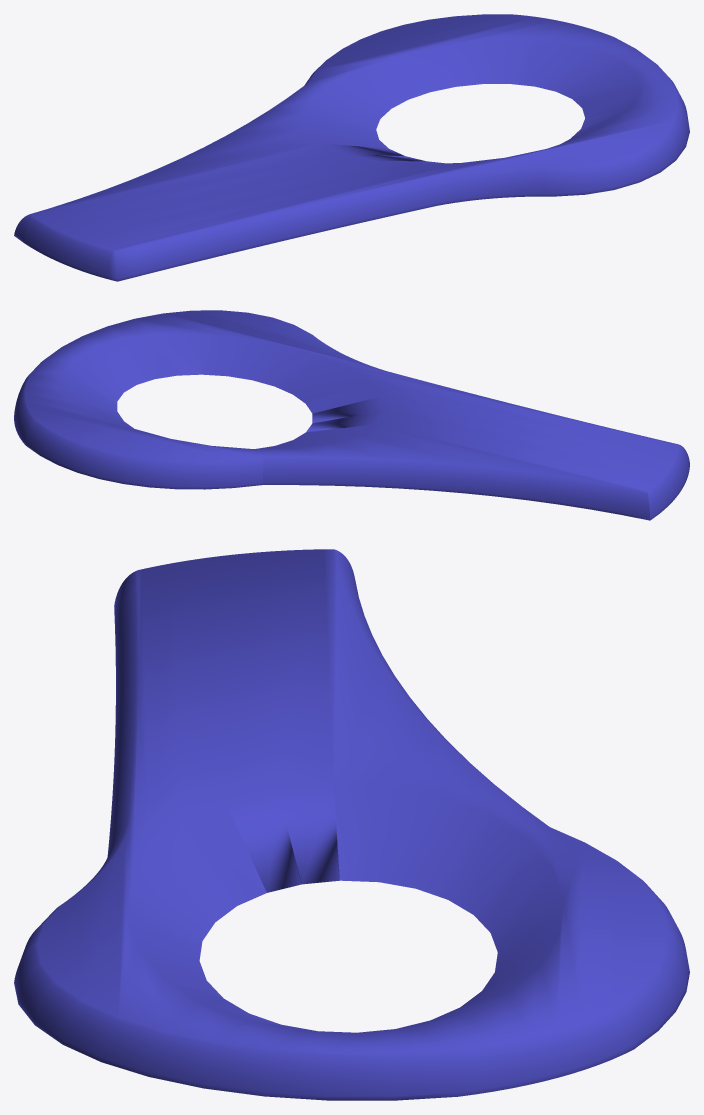
The model's file is original-10.obj.
The picture shows the model from 3 angles, top to bottom: view 1: azimuth 30°, elevation 25°; view 2: azimuth 150°, elevation 25°; view 3: azimuth 270°, elevation 25°; orthographic projection. The views are drawn at different scales.
Visible parts, largest first — view 1: Component_7_2/Component_7_1_2/mesh43/mesh43-geometry#mesh43-geom; view 2: Component_7_2/Component_7_1_2/mesh43/mesh43-geometry#mesh43-geom; view 3: Component_7_2/Component_7_1_2/mesh43/mesh43-geometry#mesh43-geom.
Part boxes in pixels (x1=…): Component_7_2/Component_7_1_2/mesh43/mesh43-geometry#mesh43-geom: x1=14, y1=14, x2=689, y2=281; Component_7_2/Component_7_1_2/mesh43/mesh43-geometry#mesh43-geom: x1=14, y1=310, x2=689, y2=520; Component_7_2/Component_7_1_2/mesh43/mesh43-geometry#mesh43-geom: x1=14, y1=549, x2=689, y2=1100.
Size of the model in its own units: 0.5093 by 0.0183 by 0.2803.
